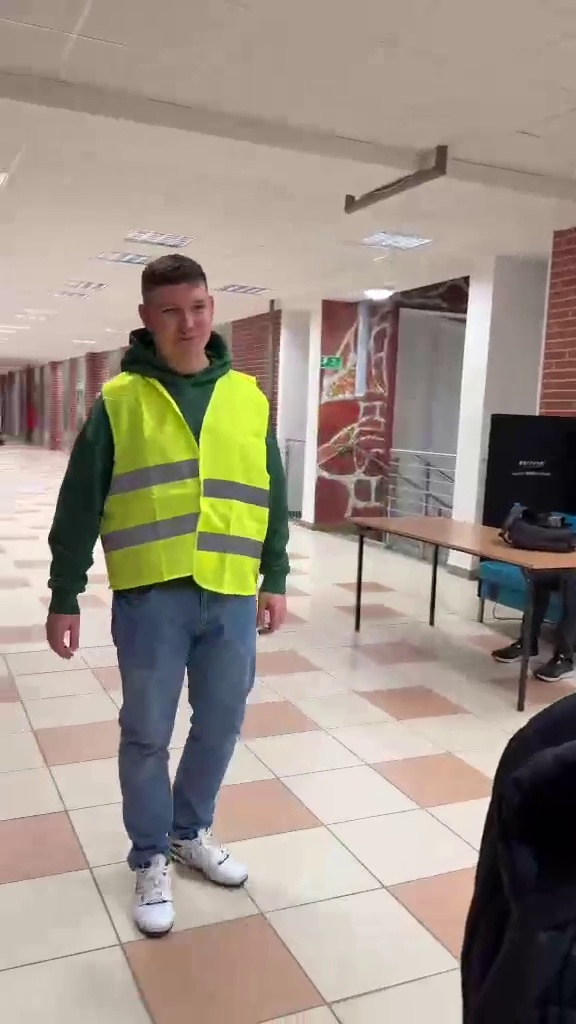vest: (45, 254, 288, 949)
